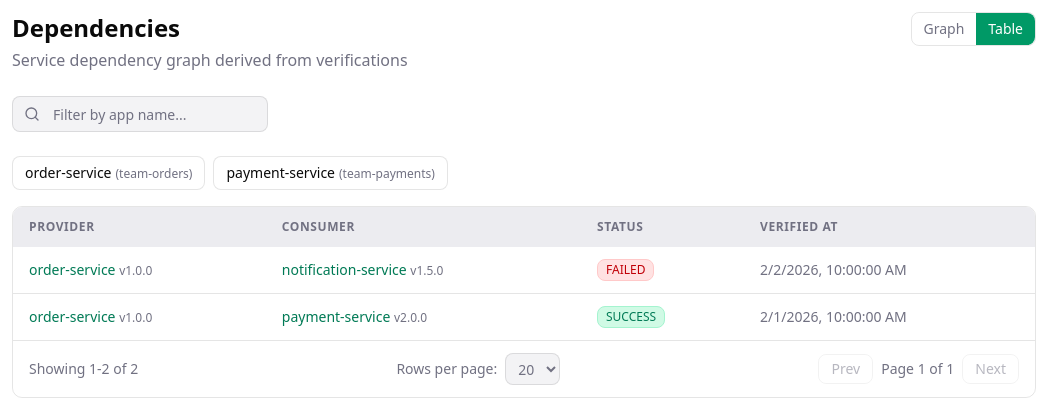
it: GraphPage › should return to full table view when clear selection clicked
Click the button "order-service(team-orders)".
click(109, 173)  # box [12, 156, 206, 190]
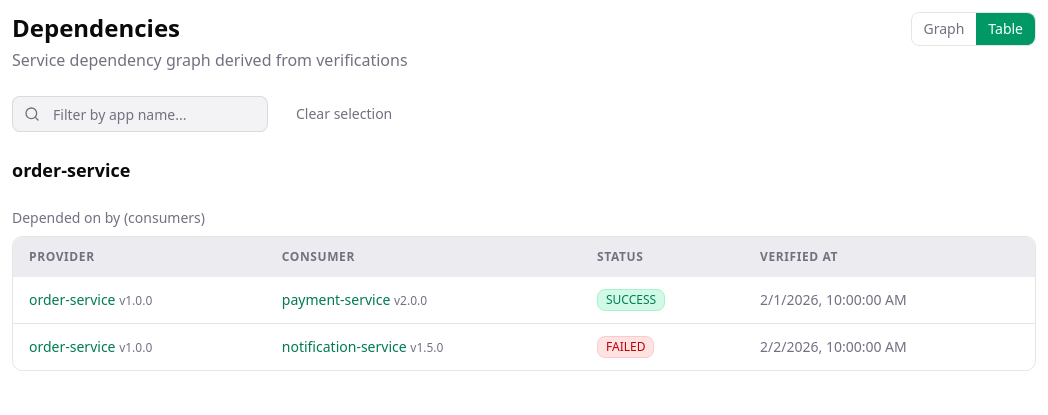
Expected: the button "Clear selection" is shown
Click the button "Clear selection".
click(344, 114)  # box [284, 96, 404, 132]
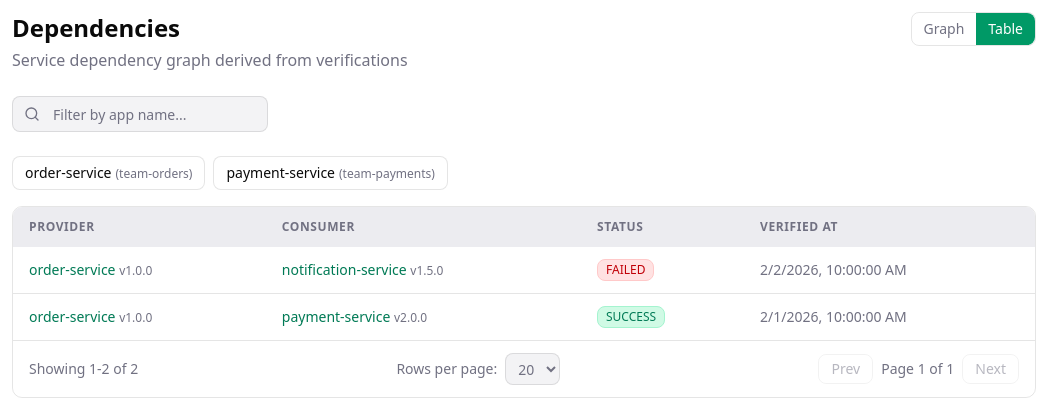
Expected: the text "SUCCESS" is shown, [597, 306, 665, 328]
Expected: the text "FAILED" is shown, [597, 259, 654, 281]
